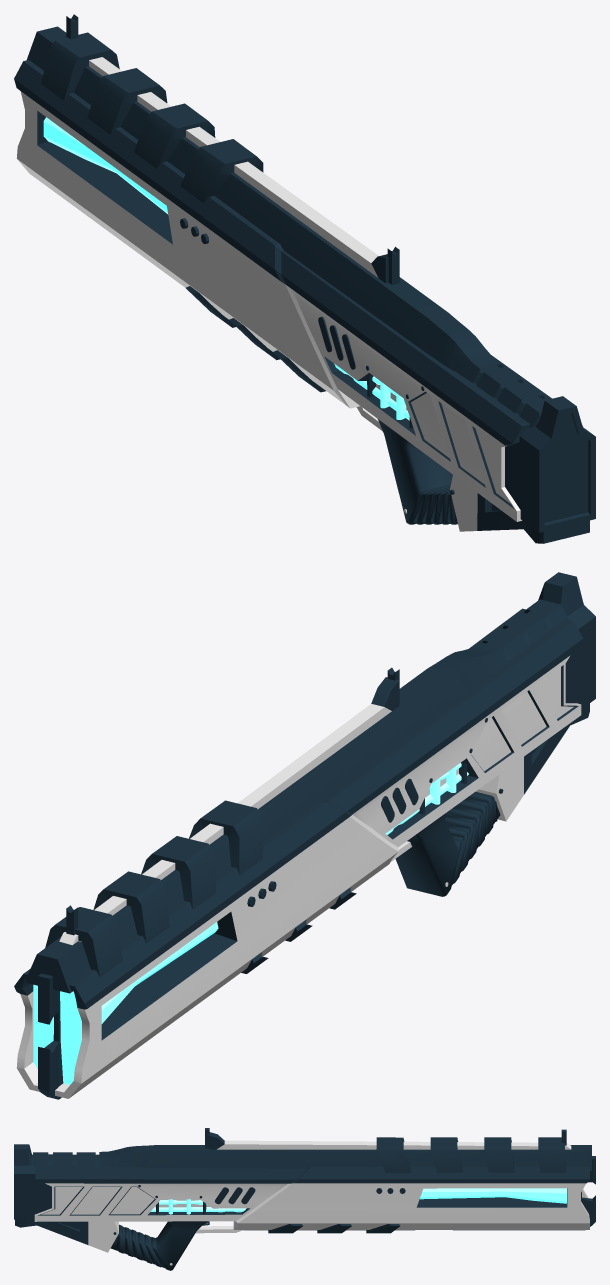
Rendered from ArmaLarga.fbx.
3 renders of one model, top to bottom at view 1: azimuth 30°, elevation 25°; view 2: azimuth 150°, elevation 25°; view 3: azimuth 270°, elevation 25°, orthographic. The views are drawn at different scales.
Visible parts, largest first — view 1: Cuerpo, DiseñoTopYAbajo, TubosDeLuzYsoporte, MirasGatilloYdetalles; view 2: Cuerpo, DiseñoTopYAbajo, TubosDeLuzYsoporte, MirasGatilloYdetalles; view 3: Cuerpo, DiseñoTopYAbajo, MirasGatilloYdetalles, TubosDeLuzYsoporte.
Boxes of the visible parts, left/top/right/bottom form: Cuerpo: left=14, top=60, right=582, bottom=521; DiseñoTopYAbajo: left=27, top=26, right=548, bottom=427; TubosDeLuzYsoporte: left=334, top=363, right=595, bottom=532; MirasGatilloYdetalles: left=43, top=14, right=589, bottom=543; Cuerpo: left=14, top=608, right=582, bottom=1098; DiseñoTopYAbajo: left=24, top=599, right=568, bottom=1099; TubosDeLuzYsoporte: left=385, top=572, right=595, bottom=896; MirasGatilloYdetalles: left=59, top=667, right=589, bottom=1023; Cuerpo: left=34, top=1154, right=589, bottom=1229; DiseñoTopYAbajo: left=33, top=1137, right=595, bottom=1233; MirasGatilloYdetalles: left=15, top=1128, right=571, bottom=1265; TubosDeLuzYsoporte: left=14, top=1144, right=246, bottom=1270.
Bounding box in the file's own units: 58.23 × 195 × 749.
